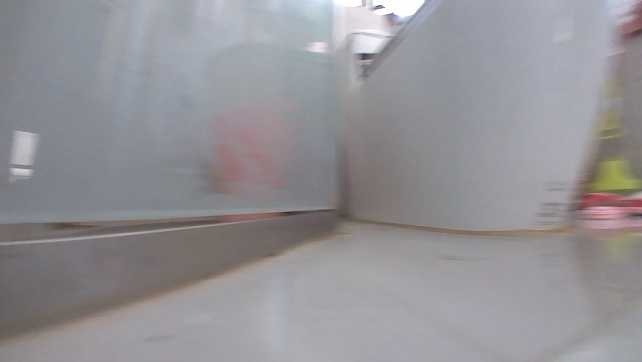toilet: (341, 0, 626, 233)
